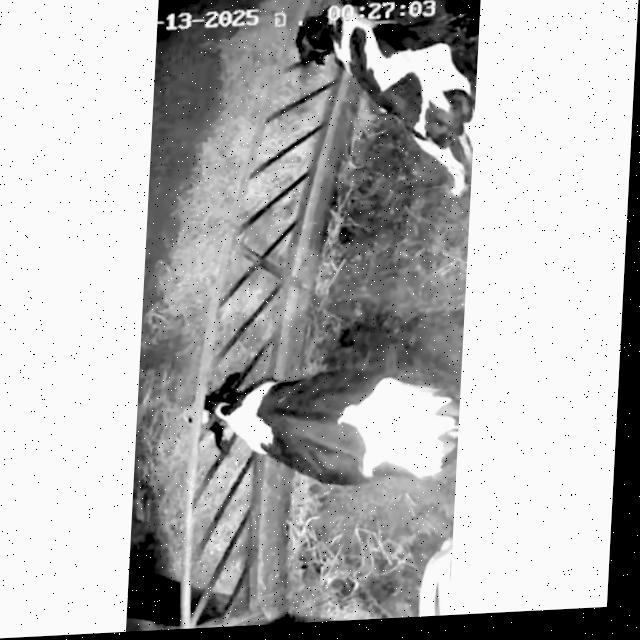eat: (155, 339, 349, 475), (232, 0, 413, 113)
